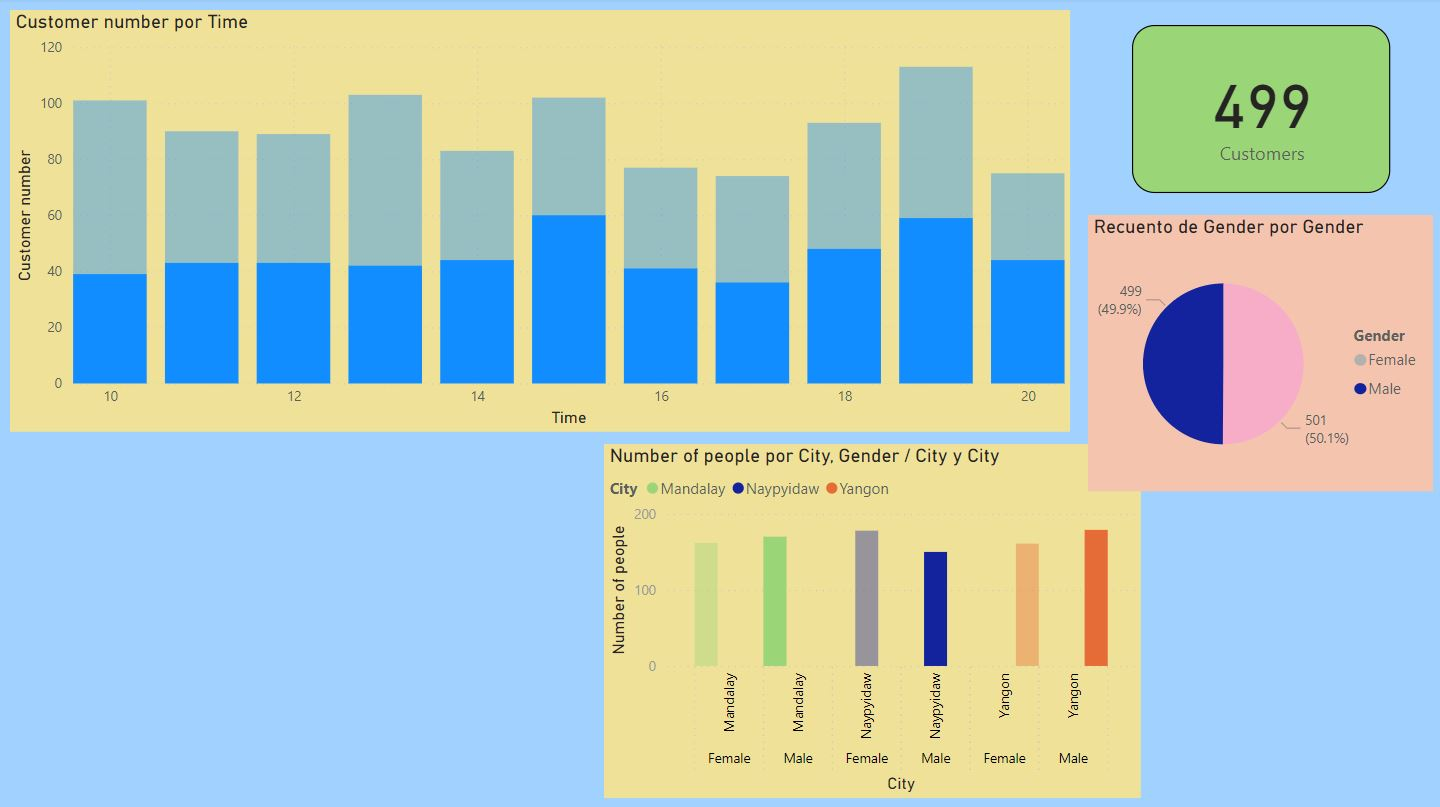

Layout of this report page (visuals, bound fields, positions):
{"tool":"powerbi","page":{"name":"Gender, costumer type and income per city","canvas":[1280,720],"ordinal":0},"visuals":[{"type":"clusteredColumnChart","fields":{"Category":["supermarket_sales - Sheet1.City","supermarket_sales - Sheet1.Customer type"],"Series":["supermarket_sales - Sheet1.City"],"Y":["CountNonNull(supermarket_sales - Sheet1.Customer type)"]},"box":[9.7,200.4,503.8,380.3],"z":0},{"type":"card","fields":{"Values":["CountNonNull(supermarket_sales - Sheet1.Customer type)"]},"box":[580.7,69.1,228.6,148.8],"z":1000},{"type":"map","fields":{"Category":["supermarket_sales - Sheet1.City"],"Size":["Sum(supermarket_sales - Sheet1.Total)"]},"box":[513.6,240.2,326.8,479.5],"z":2000},{"type":"clusteredColumnChart","fields":{"Category":["supermarket_sales - Sheet1.City","supermarket_sales - Sheet1.Gender"],"Y":["CountNonNull(supermarket_sales - Sheet1.Gender)"],"Series":["supermarket_sales - Sheet1.City"]},"box":[840.4,36,439.6,407.5],"z":3000},{"type":"card","fields":{"Values":["Sum(supermarket_sales - Sheet1.Total)"]},"box":[9.7,593.3,503.8,126.4],"z":4000},{"type":"pieChart","fields":{"Category":["supermarket_sales - Sheet1.Gender"],"Y":["CountNonNull(supermarket_sales - Sheet1.Gender)"]},"box":[840.4,470.8,439.6,249],"z":5000},{"type":"clusteredBarChart","fields":{"Category":["supermarket_sales - Sheet1.Date.Variación.Jerarquía de fechas.Mes","supermarket_sales - Sheet1.Date.Variación.Jerarquía de fechas.Día"],"Y":["Sum(supermarket_sales - Sheet1.Total)"],"Series":["supermarket_sales - Sheet1.City"]},"box":[9.7,11.7,503.8,180.9],"z":6000}]}

Visuals, with their boxes in screenshot pixels (x1, y1, x2, y2), scaled from the page's 1280x720 canvas onto the 1440x807 screenshot:
clusteredColumnChart - supermarket_sales - Sheet1.City x supermarket_sales - Sheet1.Customer type: [11,225,578,651]
card - CountNonNull(supermarket_sales - Sheet1.Customer type): [653,77,910,244]
map - supermarket_sales - Sheet1.City x Sum(supermarket_sales - Sheet1.Total): [578,269,945,806]
clusteredColumnChart - supermarket_sales - Sheet1.City x supermarket_sales - Sheet1.Gender: [945,40,1439,497]
card - Sum(supermarket_sales - Sheet1.Total): [11,665,578,806]
pieChart - supermarket_sales - Sheet1.Gender x CountNonNull(supermarket_sales - Sheet1.Gender): [945,528,1439,806]
clusteredBarChart - supermarket_sales - Sheet1.Date.Variación.Jerarquía de fechas.Mes x supermarket_sales - Sheet1.Date.Variación.Jerarquía de fechas.Día: [11,13,578,216]
